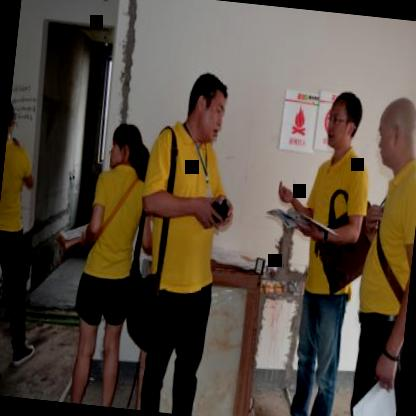head: (180, 64, 233, 150), (366, 87, 416, 176), (321, 86, 369, 158), (104, 117, 144, 181)
